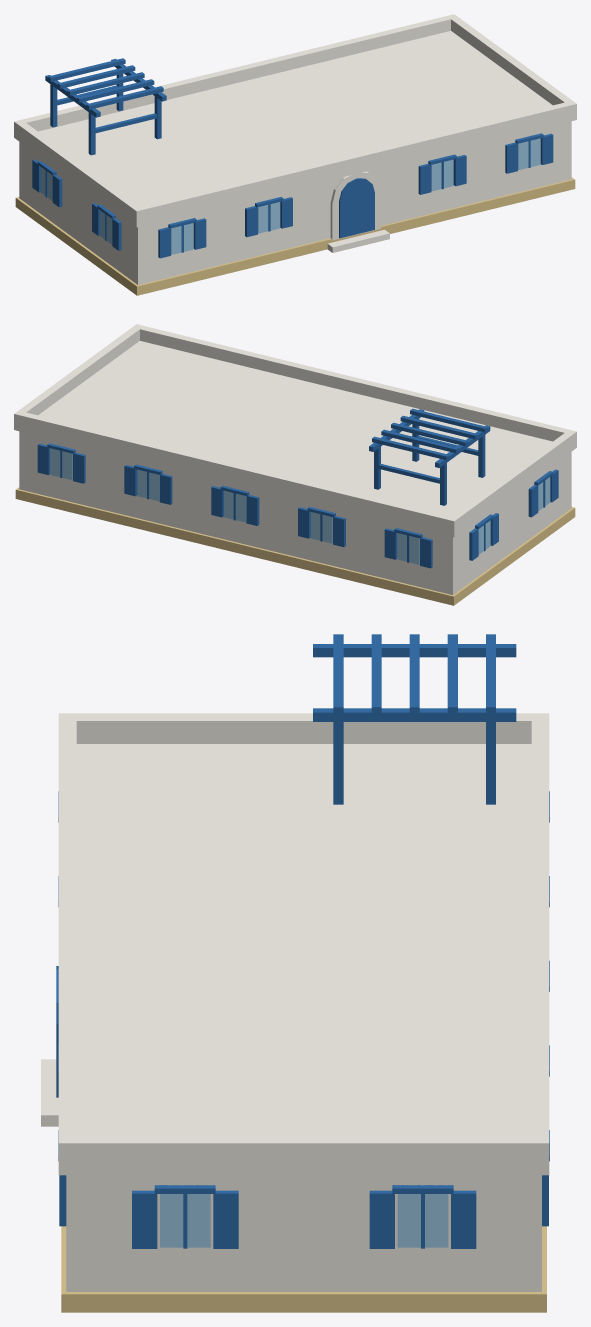
Rendered from house-2x1-1f-aegean-a.glb.
3 views of the same model, one above another, from view 1: azimuth 30°, elevation 25°; view 2: azimuth 150°, elevation 25°; view 3: azimuth 270°, elevation 25° (orthographic). The views are drawn at different scales.
Parts seen in each view (by area): view 1: house-2x1-1f-aegean-a; view 2: house-2x1-1f-aegean-a; view 3: house-2x1-1f-aegean-a.
Boxes of the visible parts, box(x1,y1,x2,y2) form: house-2x1-1f-aegean-a: box(14, 14, 576, 295); house-2x1-1f-aegean-a: box(14, 324, 576, 605); house-2x1-1f-aegean-a: box(41, 634, 549, 1312).
Size of the model in its own units: 2 by 0.586 by 1.
1 material, 1 textured.
